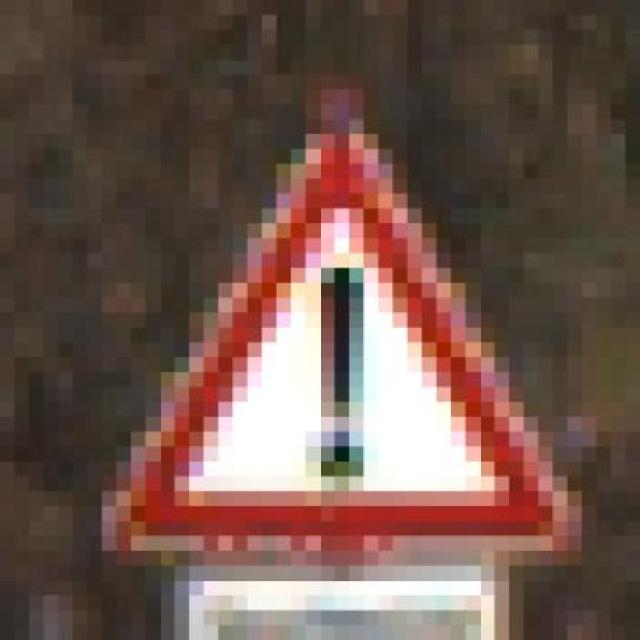Attention Please-: (101, 104, 582, 565)
